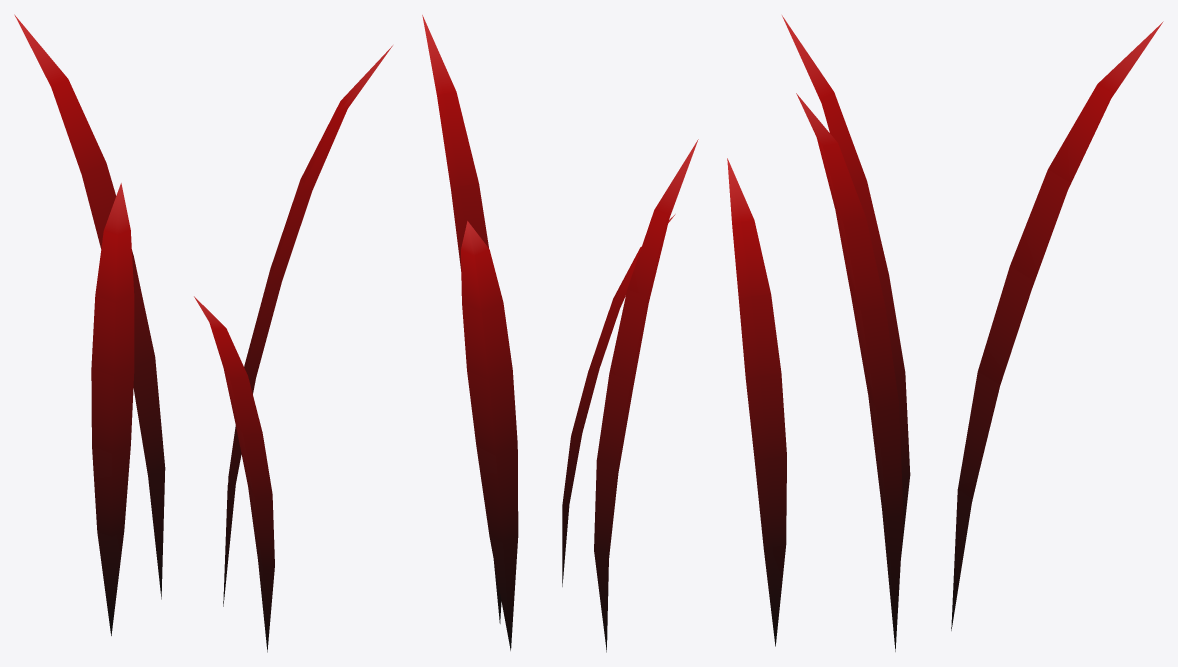
The model's file is mod_hierba4.fbx.
The picture shows the model from 3 angles, left to right: view 1: azimuth 30°, elevation 25°; view 2: azimuth 150°, elevation 25°; view 3: azimuth 270°, elevation 25°; orthographic projection. The views are drawn at different scales.
Parts seen in each view (by area): view 1: hierba.002; view 2: hierba.002; view 3: hierba.002.
Part boxes in pixels (x1=…): hierba.002: x1=14, y1=14, x2=392, y2=652; hierba.002: x1=422, y1=15, x2=698, y2=652; hierba.002: x1=727, y1=15, x2=1163, y2=651.
Bounding box in the file's own units: 0.6812 × 1.33 × 0.8345.
